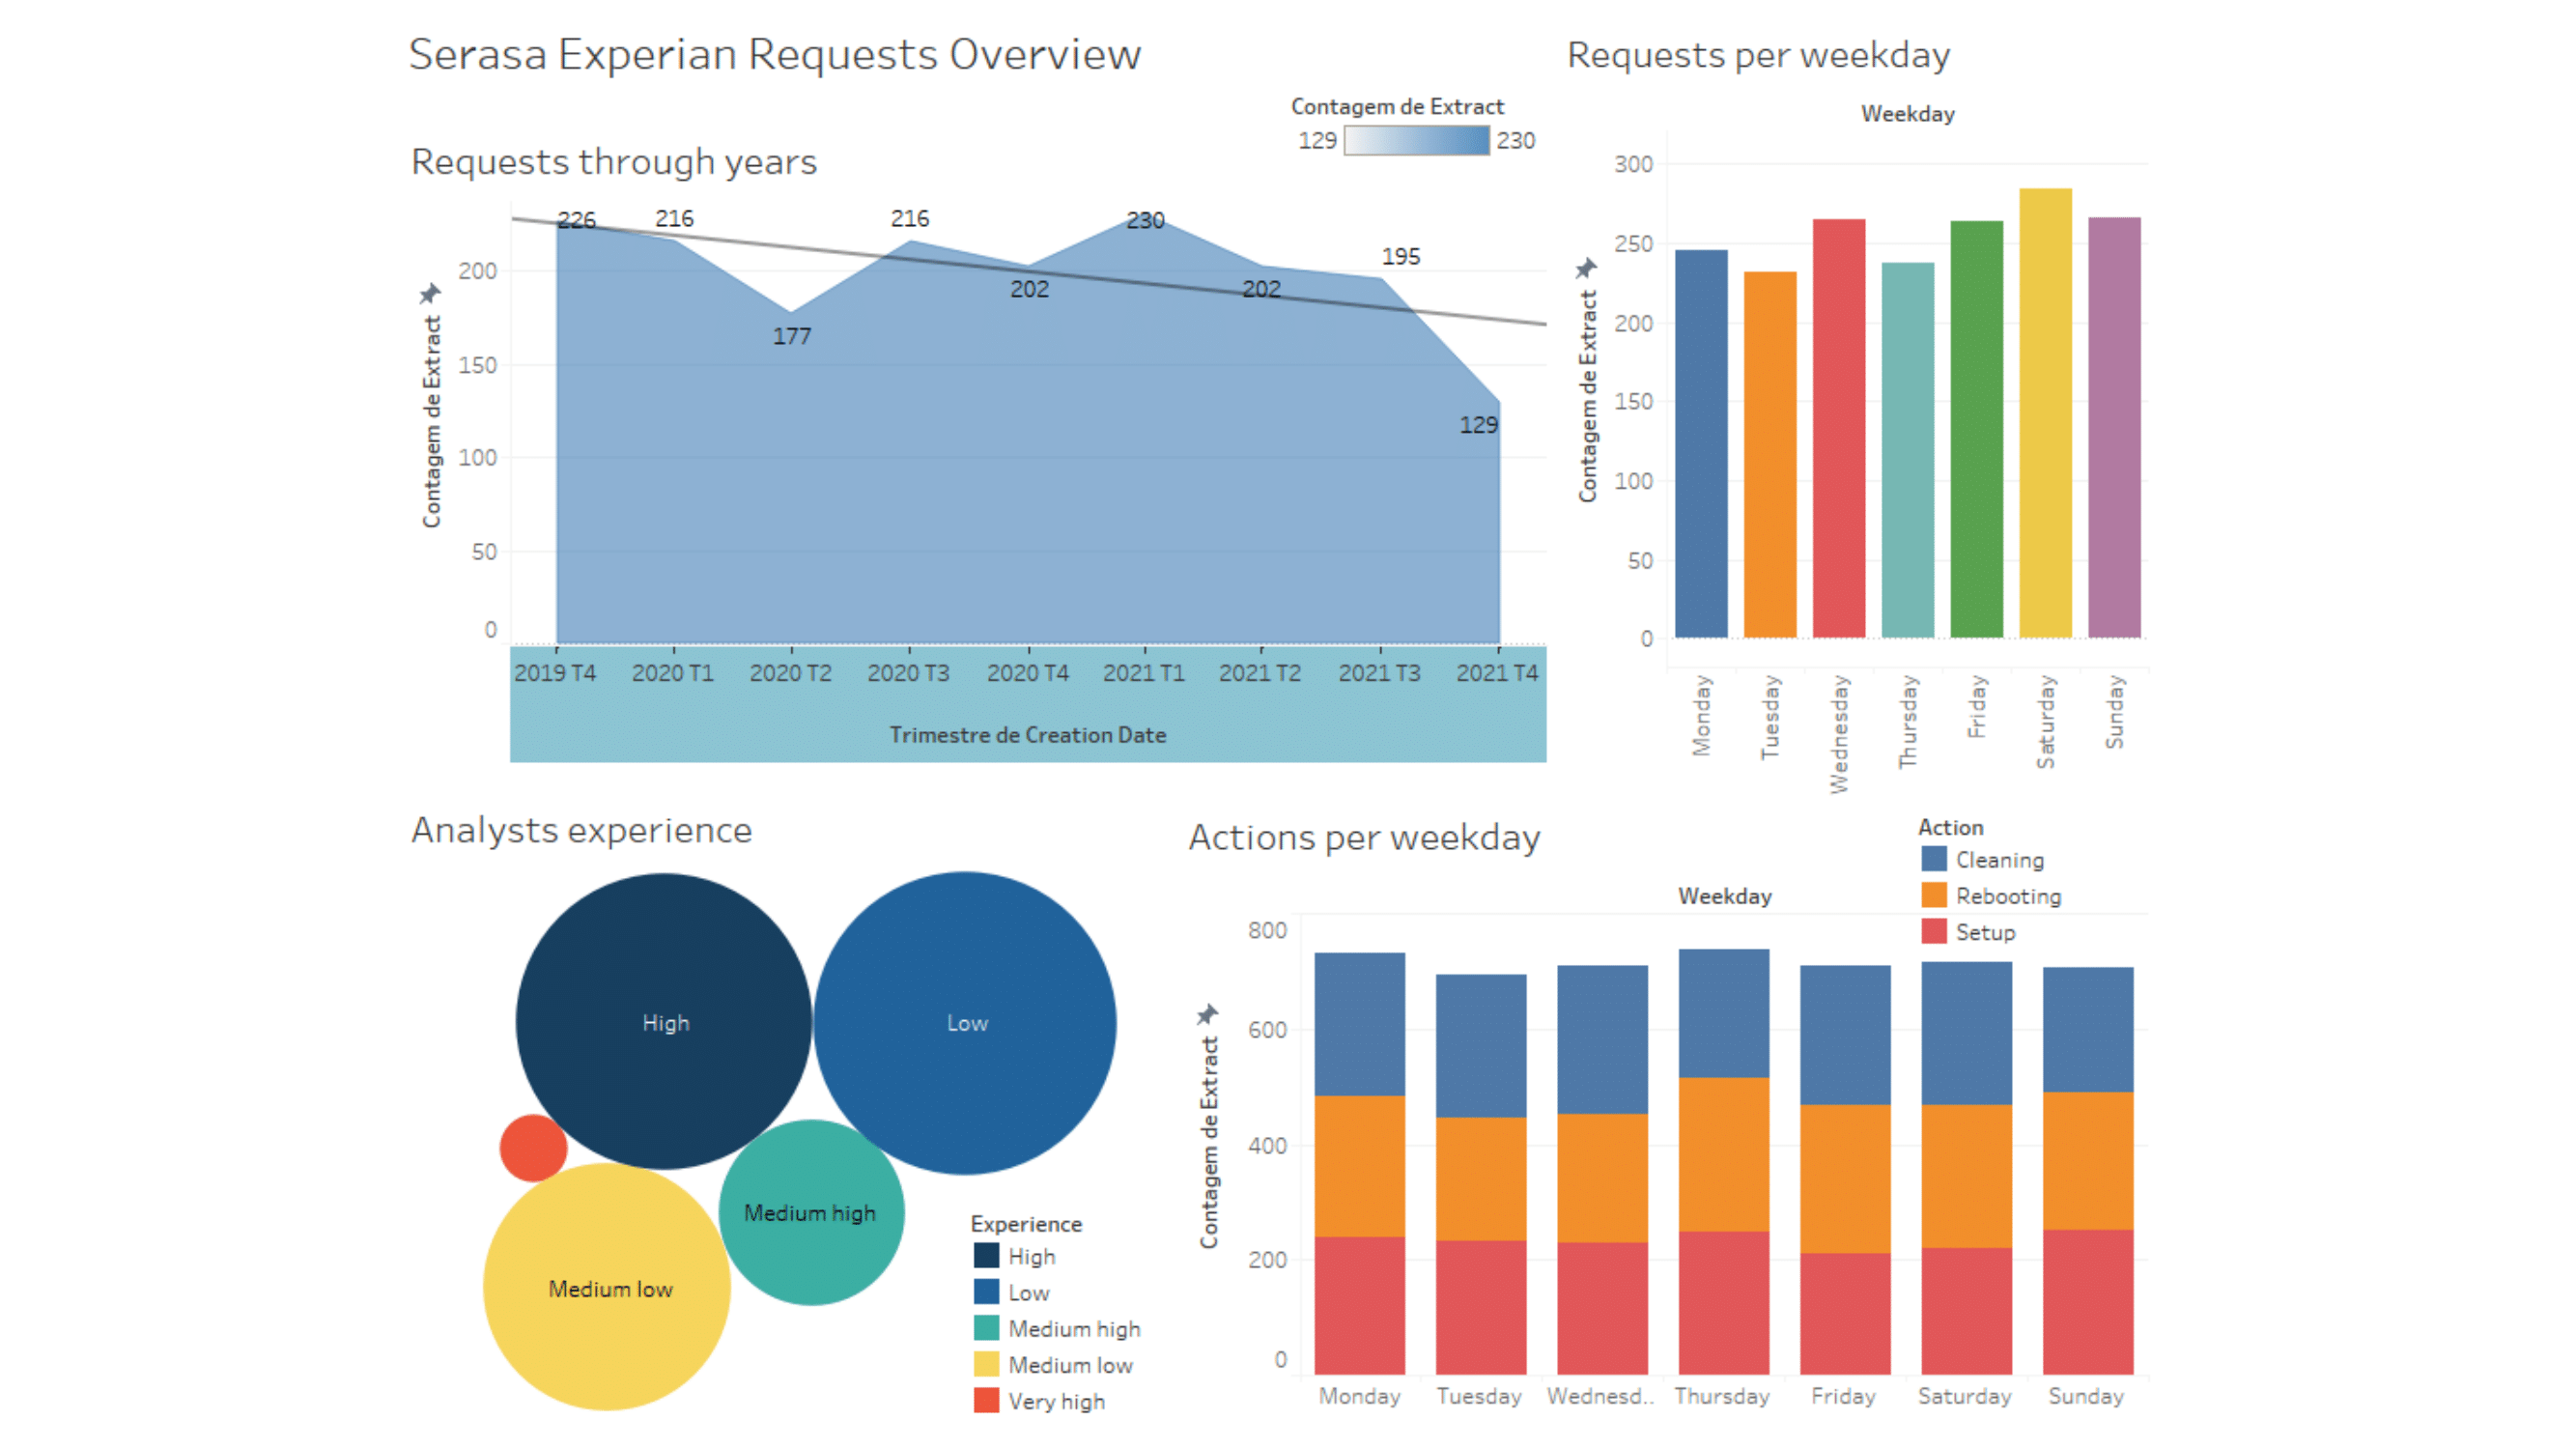

The page's visual inventory and layout, read from the dashboard file:
{"tool":"tableau","page":{"name":"Serasa Experian Requests Overview","canvas":[1000,800],"ordinal":0},"visuals":[{"type":"title","box":[8,8,984,42]},{"type":"worksheet","title":"Requests per weekday","mark":"Automatic","rows":["Extract (Extract.Extract)_36208A8611914F3096A63902818D66FD"],"cols":["weekday"],"box":[650,9,325,439]},{"type":"legend","title":"Requests through years","param":"[federated.1p6cw0d08rtscd1h2dh6o15siz8f].[__tableau_internal_object_id__].[cnt:E","box":[502,46,140,57]},{"type":"worksheet","title":"Requests through years","mark":"Area","rows":["Extract (Extract.Extract)_36208A8611914F3096A63902818D66FD"],"cols":["creation_date"],"box":[12,68,631,353]},{"type":"worksheet","title":"Analysts experience","mark":"Circle","box":[12,437,438,342]},{"type":"worksheet","title":"Actions per weekday","mark":"Automatic","rows":["Extract (Extract.Extract)_42E5B0B9D524490A98D6F2600B0B4B1E"],"cols":["weekday"],"box":[441,441,534,339]},{"type":"legend","title":"Actions per weekday","param":"[federated.0rmp0051w3b1kz10slhiz0u1bbn2].[none:action:nk]","box":[847,446,120,80]},{"type":"legend","title":"Analysts experience","param":"[federated.1duhdqg1ljqdyd17esxjw1jj3hpi].[none:experience:nk]","box":[324,665,103,133]}]}

Visuals, with their boxes on the page's 1000x800 design canvas (x1, y1, x2, y2). These are canvas units, not pixel positions in the 2576x1449 screenshot, which may show the page scaled, cropped or inside an application window:
title: locate(8, 8, 992, 50)
"Requests per weekday" worksheet: locate(650, 9, 975, 448)
"Requests through years" legend: locate(502, 46, 642, 103)
"Requests through years" worksheet (Area marks): locate(12, 68, 643, 421)
"Analysts experience" worksheet (Circle marks): locate(12, 437, 450, 779)
"Actions per weekday" worksheet: locate(441, 441, 975, 780)
"Actions per weekday" legend: locate(847, 446, 967, 526)
"Analysts experience" legend: locate(324, 665, 427, 798)
